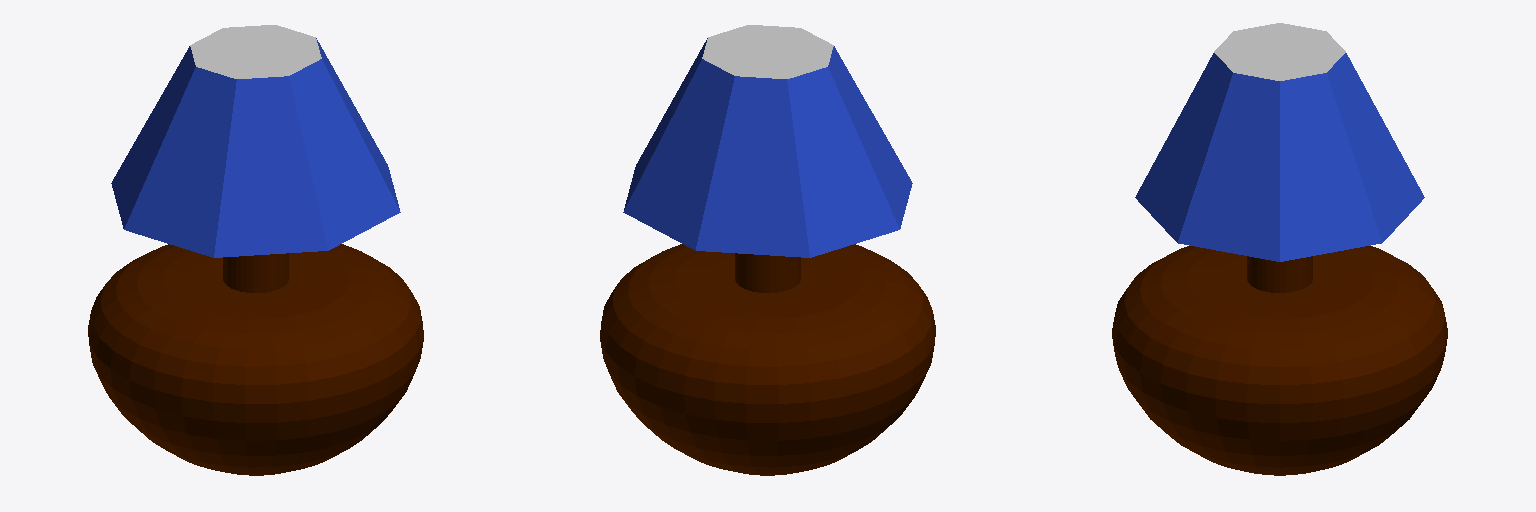
The model's file is Lamp_1.obj.
3 renders of one model, left to right at view 1: azimuth 30°, elevation 25°; view 2: azimuth 150°, elevation 25°; view 3: azimuth 270°, elevation 25°, orthographic.
Parts seen in each view (by area): view 1: Sphere, Sphere.002; view 2: Sphere, Sphere.002; view 3: Sphere, Sphere.002.
Boxes of the visible parts, <box> form: Sphere: <box>88,244,423,475</box>; Sphere.002: <box>111,25,400,257</box>; Sphere: <box>600,244,935,475</box>; Sphere.002: <box>623,25,912,257</box>; Sphere: <box>1112,246,1447,475</box>; Sphere.002: <box>1135,23,1424,261</box>.
Size of the model in its own units: 0.1978 by 0.2642 by 0.1978.